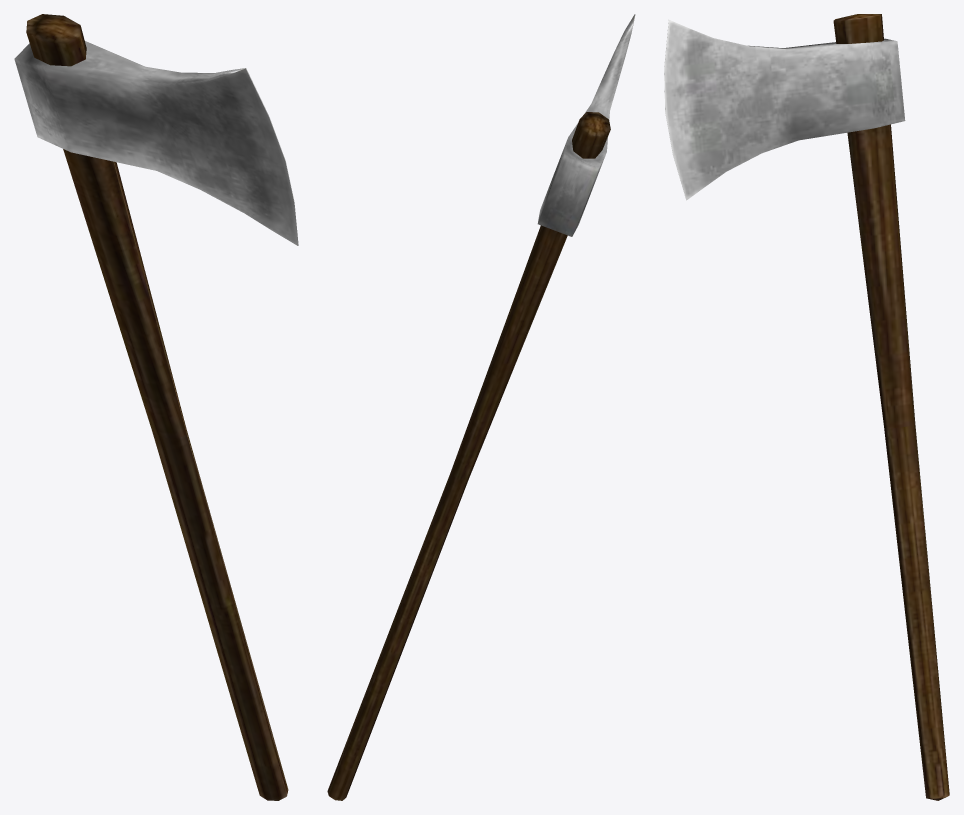
The model's file is weapon-base.glb.
3 renders of one model, left to right at view 1: azimuth 30°, elevation 25°; view 2: azimuth 150°, elevation 25°; view 3: azimuth 270°, elevation 25°, orthographic. The views are drawn at different scales.
Bounding box in the file's own units: 0.5515 × 1.57 × 0.5754.
Materials: 1 (1 with a texture image).
